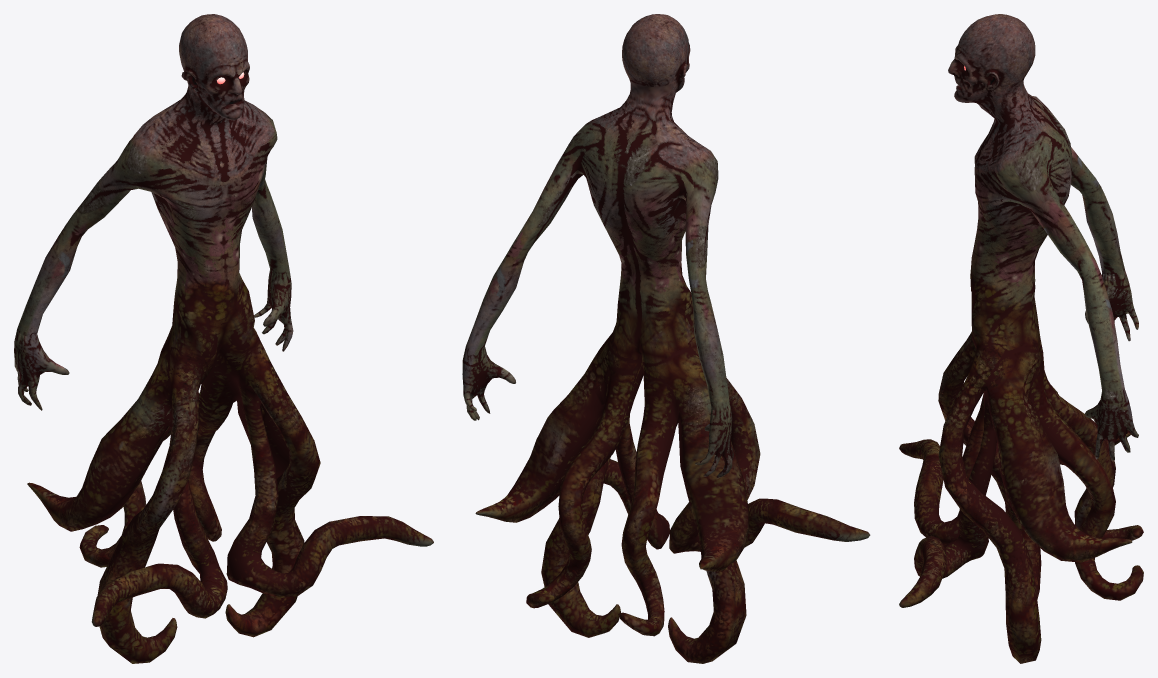
Rendered from Chobi.glb.
3 renders of one model, left to right at view 1: azimuth 30°, elevation 25°; view 2: azimuth 150°, elevation 25°; view 3: azimuth 270°, elevation 25°, orthographic. The views are drawn at different scales.
Parts seen in each view (by area): view 1: Chobi_low; view 2: Chobi_low; view 3: Chobi_low.
Boxes of the visible parts, x1=… form: Chobi_low: x1=14, y1=14, x2=433, y2=663; Chobi_low: x1=462, y1=14, x2=870, y2=663; Chobi_low: x1=899, y1=14, x2=1143, y2=663.
Size of the model in its own units: 1.79 by 3.22 by 1.16.
Materials: 2 (1 with a texture image).
